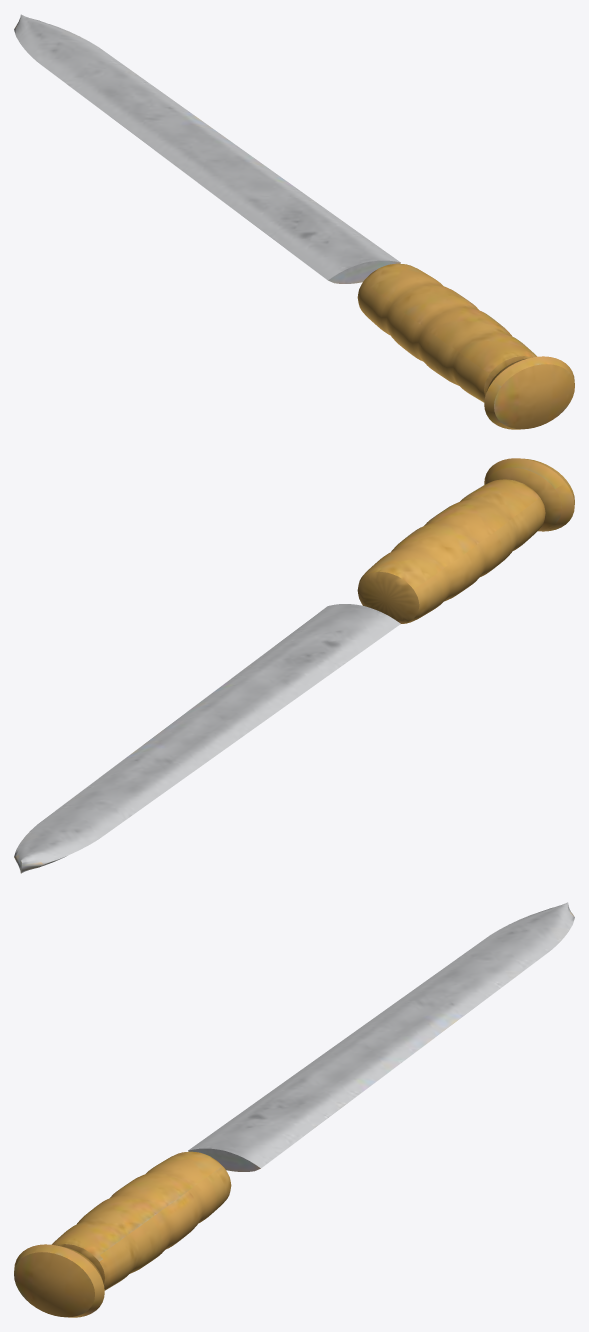
File: sasanian_dagger.glb
3 renders of one model, top to bottom at view 1: azimuth 30°, elevation 25°; view 2: azimuth 150°, elevation 25°; view 3: azimuth 330°, elevation 25°, orthographic.
Visible parts, largest first — view 1: sasanian_dagger; view 2: sasanian_dagger; view 3: sasanian_dagger.
Boxes of the visible parts, bbox=[...] form: sasanian_dagger: bbox=[14, 14, 574, 429]; sasanian_dagger: bbox=[14, 458, 574, 873]; sasanian_dagger: bbox=[14, 902, 574, 1317].
Size of the model in its own units: 0.0396 by 0.0292 by 0.3919.
1 material, 1 textured.
